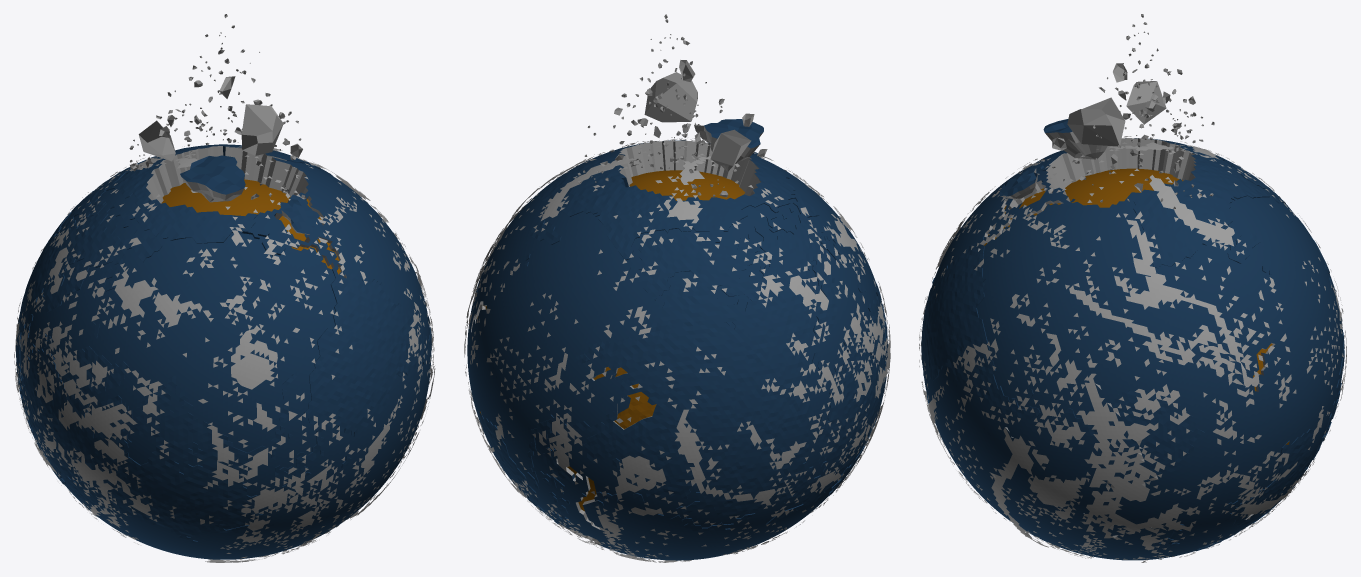
The model's file is EarthTitle_Final.FBX.
3 renders of one model, left to right at view 1: azimuth 30°, elevation 25°; view 2: azimuth 150°, elevation 25°; view 3: azimuth 270°, elevation 25°, orthographic.
Visible parts, largest first — view 1: EarthTitle_Final, EarthClouds_Final; view 2: EarthTitle_Final, EarthClouds_Final; view 3: EarthTitle_Final, EarthClouds_Final.
Boxes of the visible parts, x1,y1,x2,y2 form: EarthTitle_Final: (16,14,431,559); EarthClouds_Final: (14,142,435,562); EarthTitle_Final: (467,14,888,560); EarthClouds_Final: (464,137,890,562); EarthTitle_Final: (921,14,1344,560); EarthClouds_Final: (919,136,1346,562).
Bounding box in the file's own units: 0.136 × 0.1866 × 0.1358.
